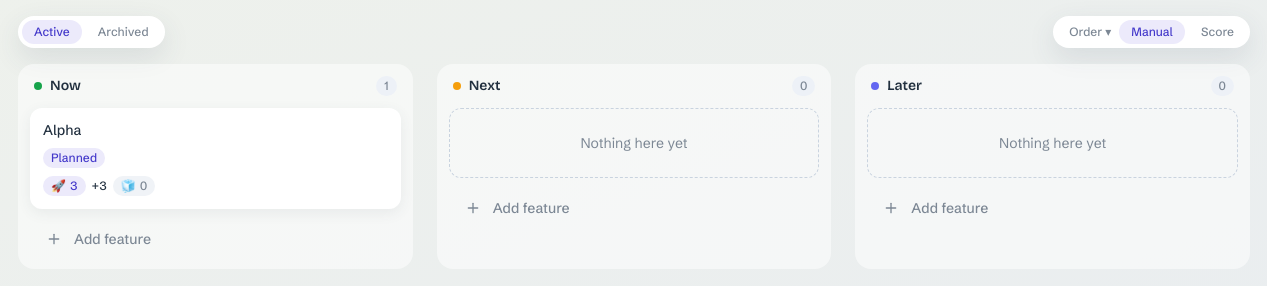
Test: VoteWidget on board cards › clicking my active vote again un-votes (PUT value 0) and decrements
Step 1. Click the button named "boost" → click(64, 186), box top-left (43, 176), bottom-right (86, 196)
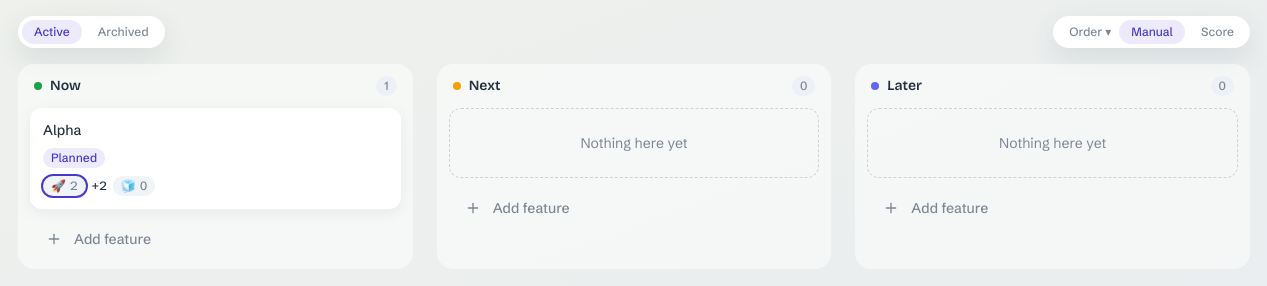
Now the button named "boost" shows "2", box top-left (43, 176), bottom-right (86, 196)
